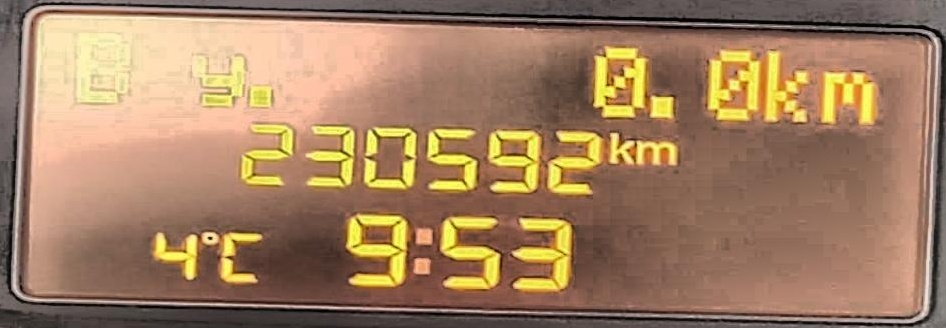-: (646, 92, 676, 119), (245, 82, 275, 109)
0: (702, 47, 762, 123), (360, 124, 418, 191)
2: (237, 122, 296, 189), (544, 129, 603, 196)
3: (510, 215, 575, 293), (298, 123, 356, 188)
4: (151, 227, 199, 282)
5: (439, 214, 504, 290), (421, 124, 478, 191)
9: (342, 210, 410, 289), (486, 127, 541, 195)
X: (64, 30, 136, 105), (589, 44, 649, 119), (763, 48, 810, 123), (820, 69, 877, 126), (187, 52, 245, 107), (217, 229, 266, 287), (410, 226, 437, 278), (633, 138, 680, 166), (607, 131, 636, 164)
